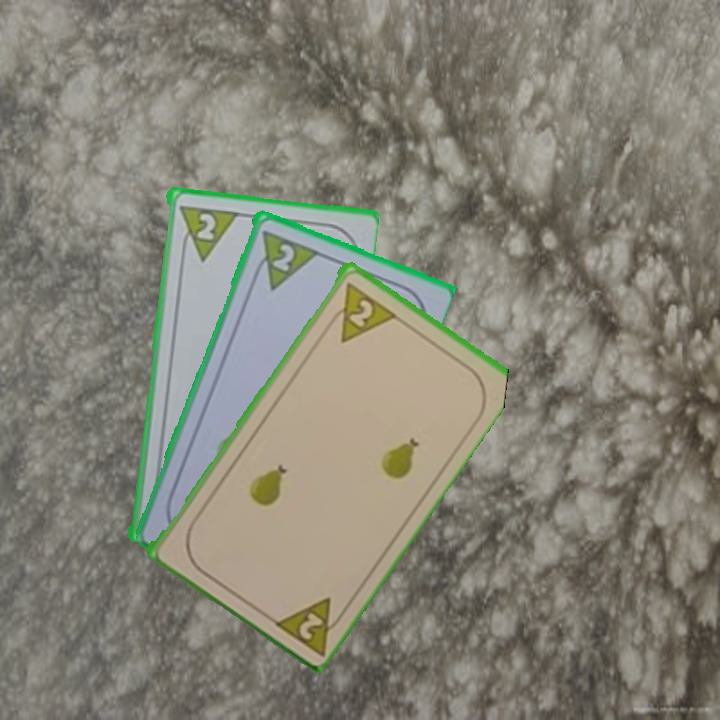2p: (268, 592, 350, 658), (323, 277, 397, 345), (268, 239, 297, 274), (193, 209, 219, 243)
